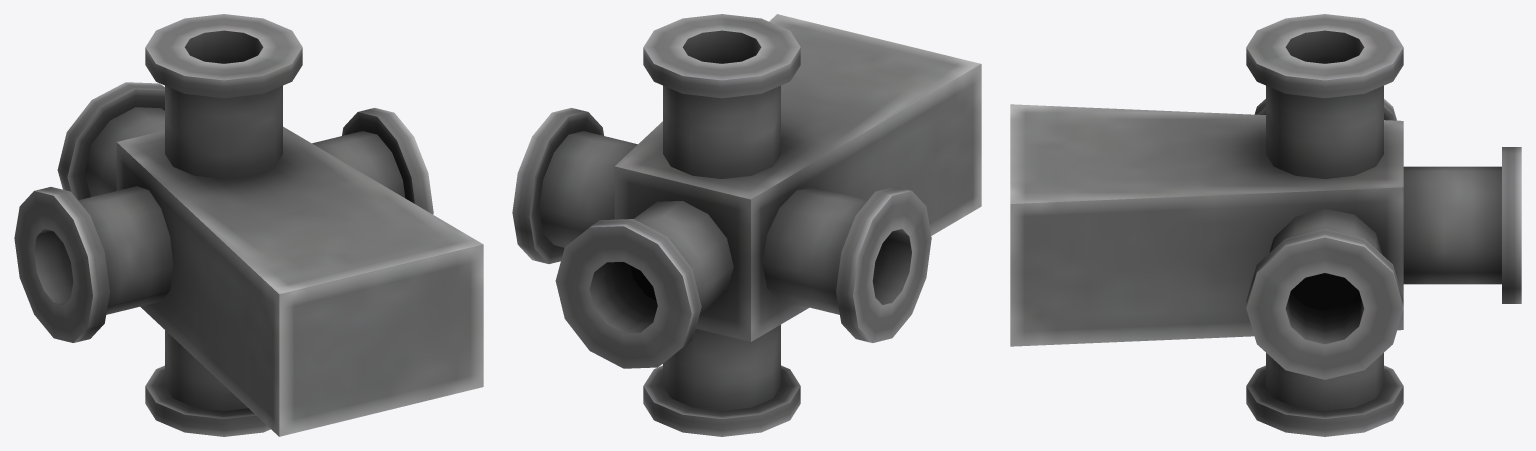
The model's file is sp_rcs_srf_4_ex.obj.
The picture shows the model from 3 angles, left to right: view 1: azimuth 30°, elevation 25°; view 2: azimuth 150°, elevation 25°; view 3: azimuth 270°, elevation 25°; orthographic projection.
Parts seen in each view (by area): view 1: mesh1; view 2: mesh1; view 3: mesh1.
Part boxes in pixels (bbox=[...]): mesh1: bbox=[14, 14, 483, 436]; mesh1: bbox=[512, 14, 981, 436]; mesh1: bbox=[1010, 14, 1521, 436].
Size of the model in its own units: 0.125 by 0.125 by 0.1625.
Materials: 1 (1 with a texture image).
